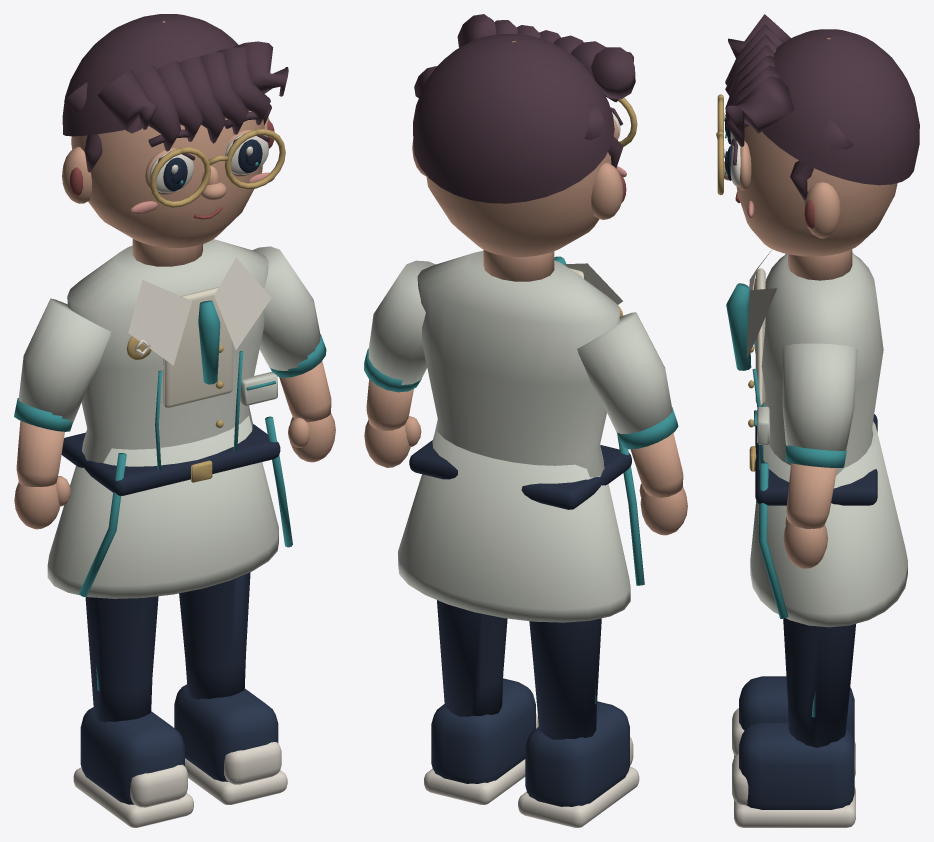
Rendered from blocky_character_c.glb.
The picture shows the model from 3 angles, left to right: view 1: azimuth 30°, elevation 25°; view 2: azimuth 150°, elevation 25°; view 3: azimuth 270°, elevation 25°; orthographic projection.
Parts seen in each view (by area): view 1: figure.002; view 2: figure.002; view 3: figure.002.
Part boxes in pixels (bbox=[...]): figure.002: bbox=[14, 14, 335, 827]; figure.002: bbox=[364, 14, 687, 827]; figure.002: bbox=[716, 14, 919, 827].
Size of the model in its own units: 1.09 by 2.5 by 0.6125.
